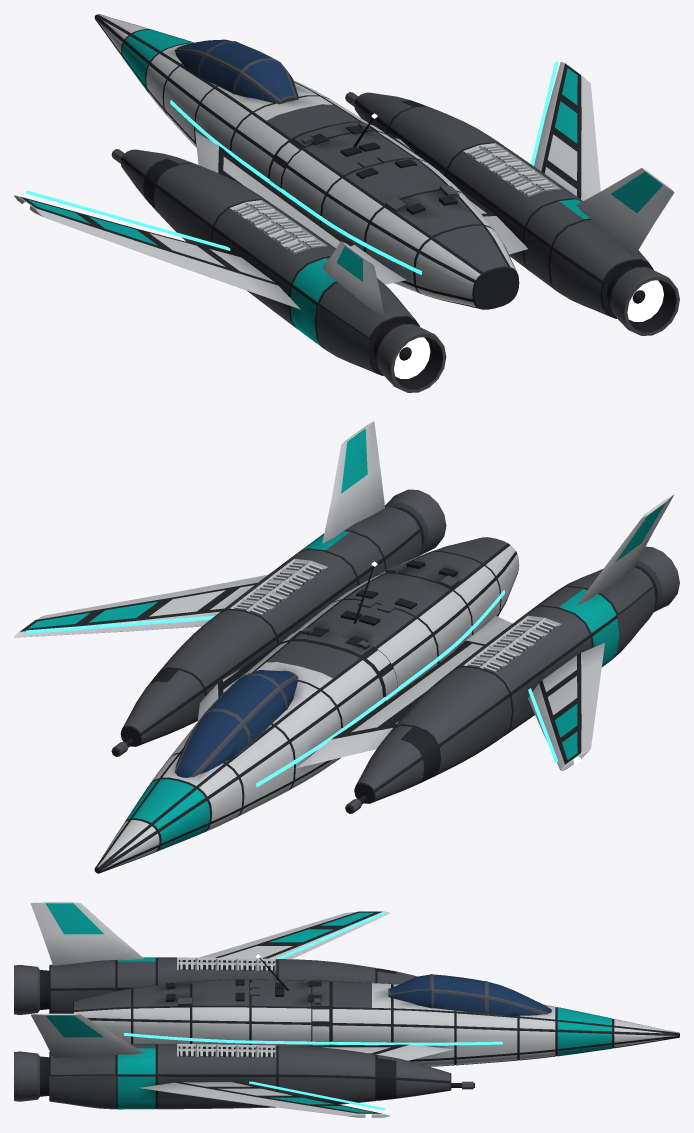
Rendered from ship_wisp.glb.
3 views of the same model, one above another, from view 1: azimuth 30°, elevation 25°; view 2: azimuth 150°, elevation 25°; view 3: azimuth 270°, elevation 25° (orthographic). The views are drawn at different scales.
Parts seen in each view (by area): view 1: ship_wisp_mesh; view 2: ship_wisp_mesh; view 3: ship_wisp_mesh.
Boxes of the visible parts, box(x1,y1,x2,y2) form: ship_wisp_mesh: box(14, 14, 679, 392); ship_wisp_mesh: box(14, 421, 679, 873); ship_wisp_mesh: box(14, 902, 679, 1118).
Size of the model in its own units: 12.34 by 3 by 16.9.
